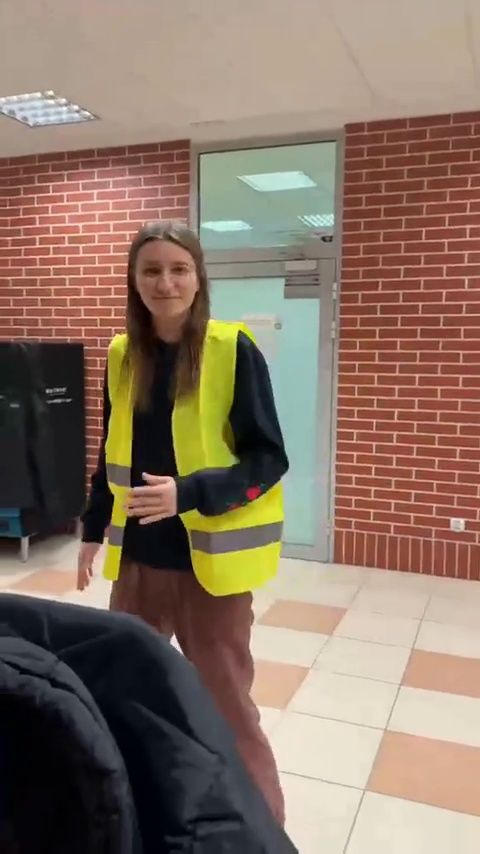vest: (81, 219, 305, 848)
